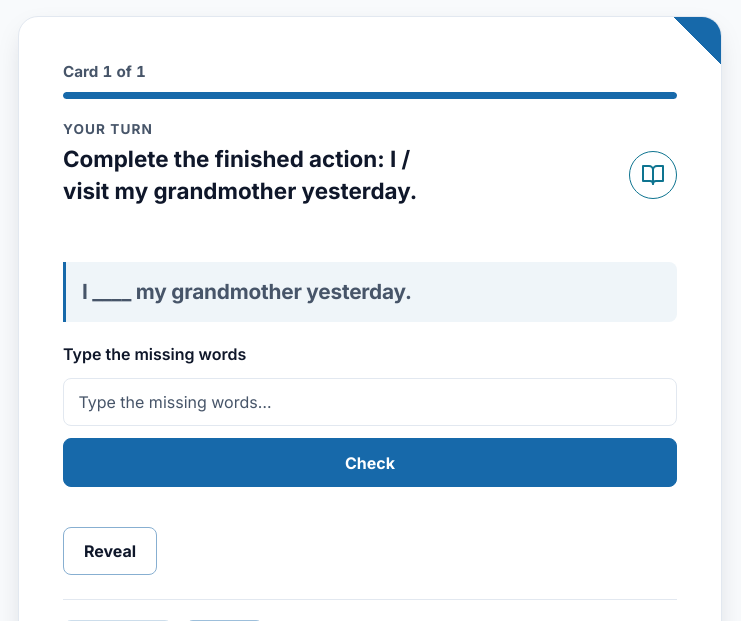
Test: VerbTensesPracticeClient › soporta ejercicios del pasado sin cambiar el formato
Check: the text "Past Simple" is not shown
Check: the text "I visited my grandmother yesterday." is not shown
Type "visited" into the field labelled "Type the missing words".
click(370, 402); type("visited")  # box 63,378 -> 677,426
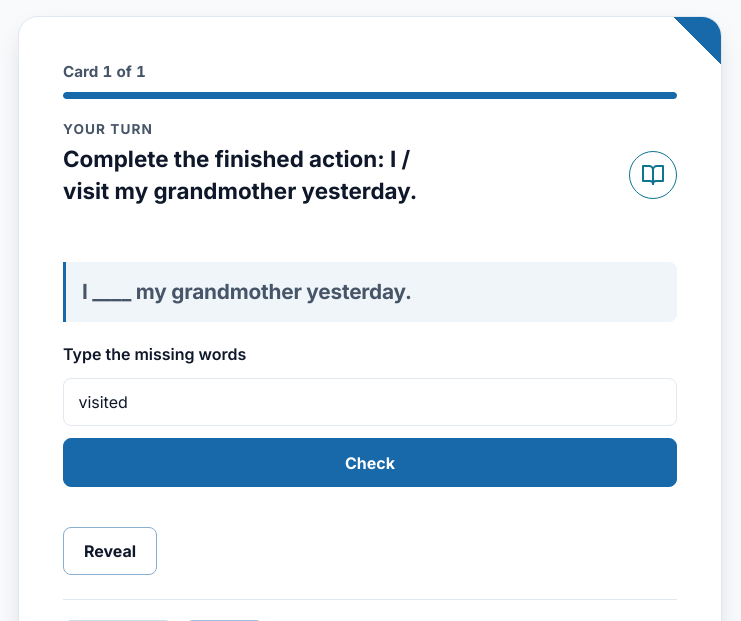
Click the button "Check".
click(370, 463)  # box 63,438 -> 677,487
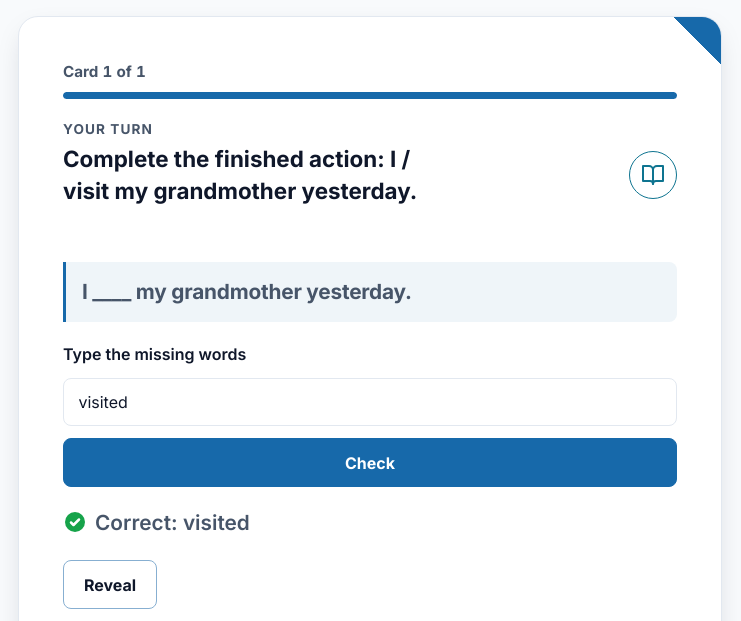
Check: the text "Correct: visited" is shown, box 95,507 -> 250,538
Click the button "Reveal".
click(110, 585)  # box 63,560 -> 157,609
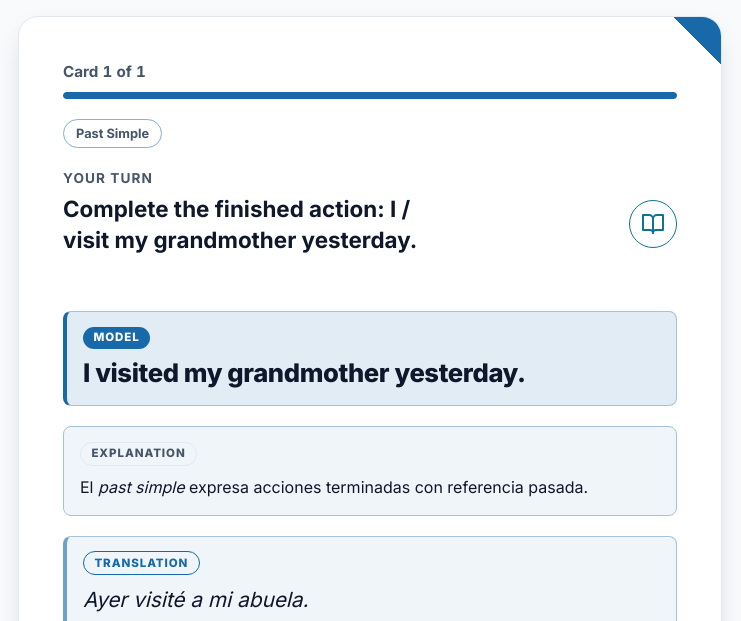
Check: the text "I visited my grandmother yesterday." is shown, box 83,358 -> 526,390
Check: the text "Past Simple" is shown, box 63,119 -> 162,148
